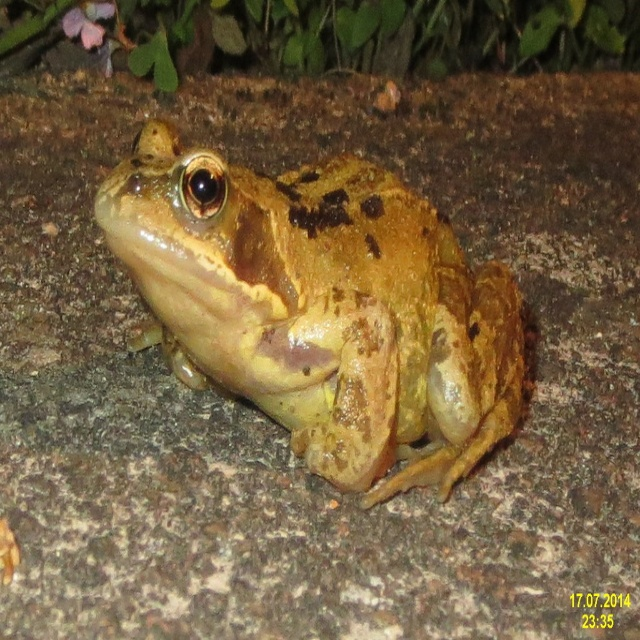Frog: (93, 118, 525, 510)
